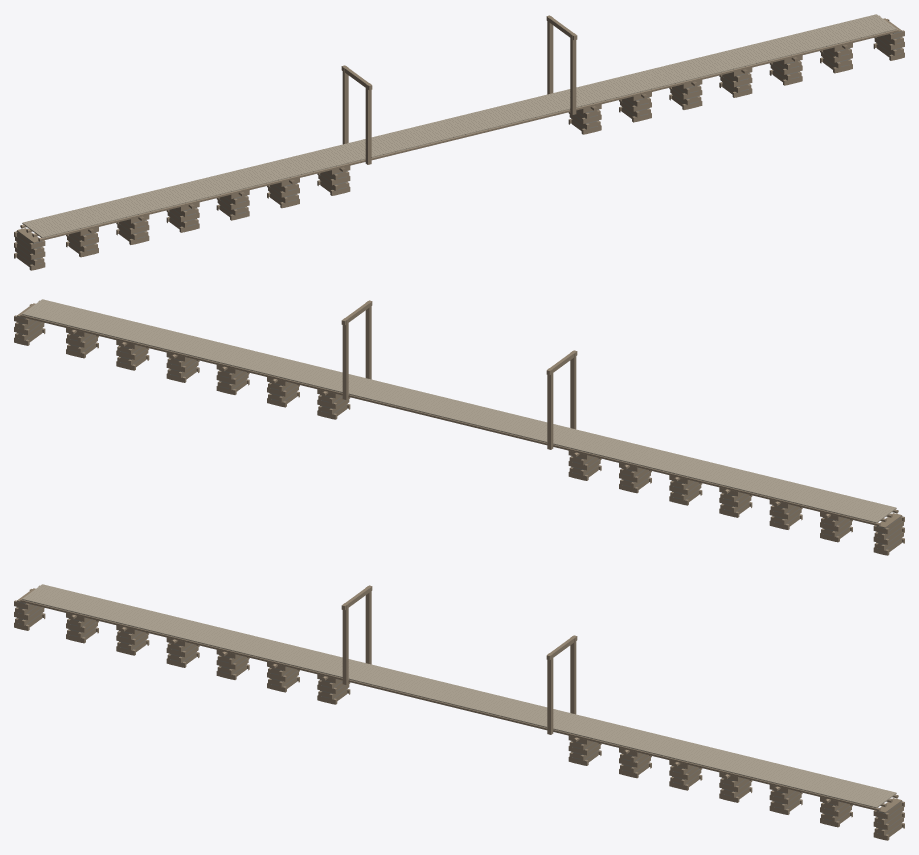
Rendered from dearborn_street_drawbridge__draw_1834.glb.
3 views of the same model, one above another, from view 1: azimuth 30°, elevation 25°; view 2: azimuth 150°, elevation 25°; view 3: azimuth 330°, elevation 25° (orthographic).
Visible parts, largest first — view 1: dearborn_street_drawbridge__draw_1834; view 2: dearborn_street_drawbridge__draw_1834; view 3: dearborn_street_drawbridge__draw_1834.
Part boxes in pixels (x1=…): dearborn_street_drawbridge__draw_1834: x1=14, y1=14, x2=904, y2=270; dearborn_street_drawbridge__draw_1834: x1=14, y1=299, x2=904, y2=555; dearborn_street_drawbridge__draw_1834: x1=14, y1=584, x2=904, y2=840.
Bounding box in the file's own units: 78.05 × 9.17 × 4.25.
